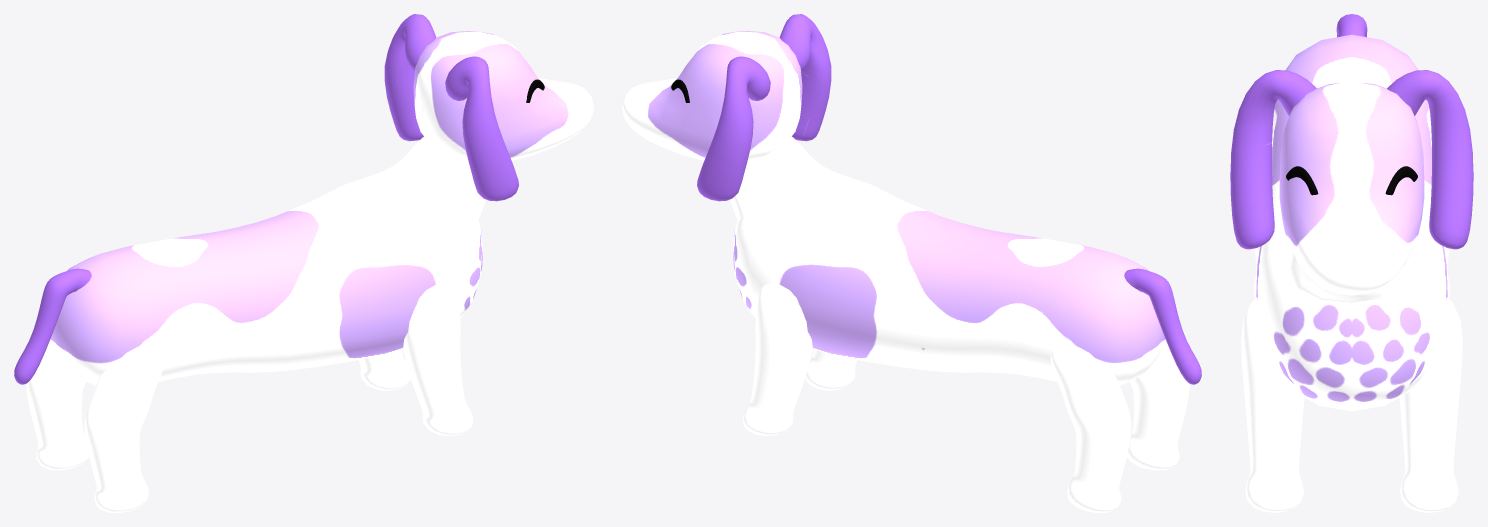
File: SpiekModel.glb
3 renders of one model, left to right at view 1: azimuth 30°, elevation 25°; view 2: azimuth 150°, elevation 25°; view 3: azimuth 270°, elevation 25°, orthographic. The views are drawn at different scales.
Visible parts, largest first — view 1: Cube, Cube.001, Cube.008, Cube.007, Cube.009, Cube.003, Cube.004, Cube.005, Cube.002; view 2: Cube, Cube.001, Cube.003, Cube.002, Cube.004, Cube.008, Cube.009, Cube.005, Cube.007; view 3: Cube, Cube.001, Cube.002, Cube.007, Cube.004, Cube.009, Cube.005, Cube.010, Cube.006.
Boxes of the visible parts, x1,y1,x2,y2 form: Cube: (50,136,485,385); Cube.001: (413,31,593,162); Cube.008: (84,344,165,512); Cube.007: (403,283,472,435); Cube.009: (445,56,518,201); Cube.003: (26,339,88,470); Cube.004: (384,14,436,141); Cube.005: (14,268,91,384); Cube.002: (358,349,410,390); Cube: (730,136,1165,385); Cube.001: (622,31,802,162); Cube.003: (1050,344,1131,512); Cube.002: (743,283,812,435); Cube.004: (697,56,770,201); Cube.008: (1127,339,1189,470); Cube.009: (779,14,831,141); Cube.005: (1124,268,1201,384); Cube.007: (805,349,857,390); Cube: (1256,34,1447,411); Cube.001: (1279,81,1424,295); Cube.002: (1399,297,1462,512); Cube.007: (1241,297,1304,512); Cube.004: (1387,70,1473,249); Cube.009: (1230,70,1316,249); Cube.005: (1336,14,1367,37); Cube.010: (1385,166,1417,195); Cube.006: (1286,166,1318,195).
Bounding box in the file's own units: 7.99 × 4.85 × 2.35.
Materials: 1 (1 with a texture image).
